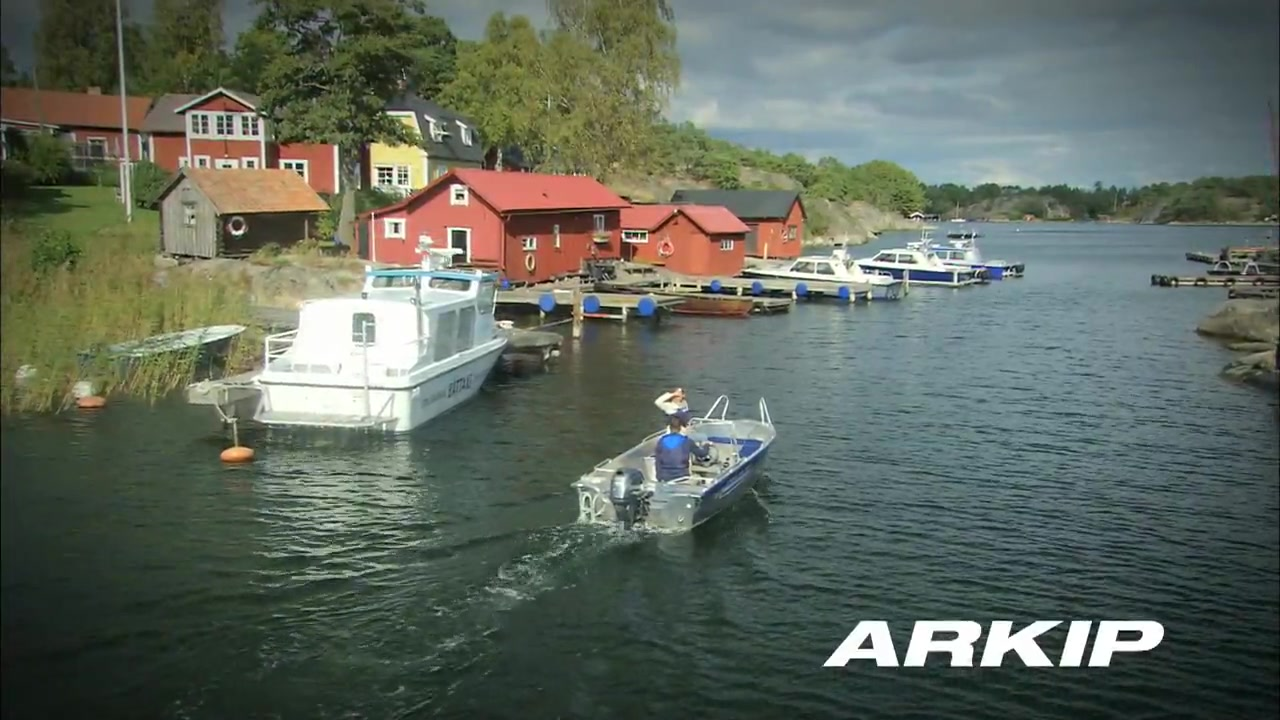boat: (570, 394, 782, 538)
